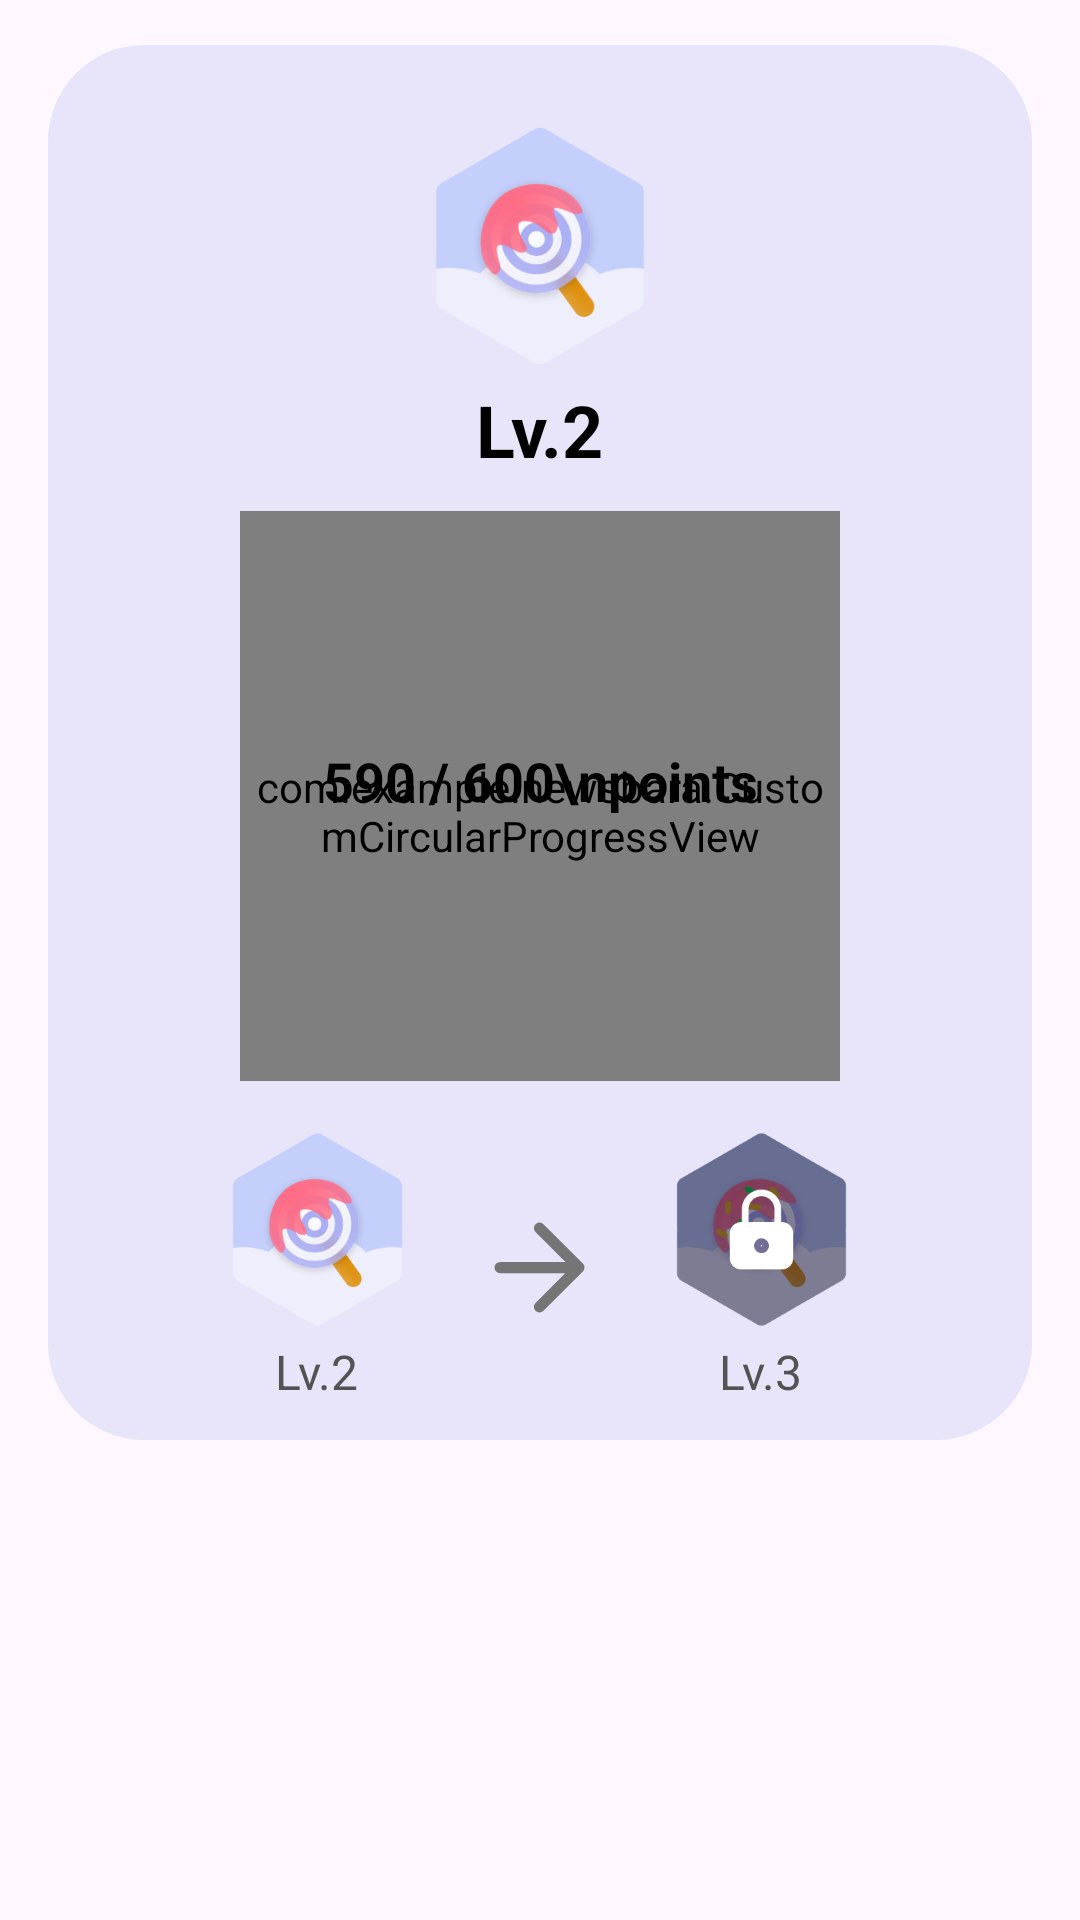

Screen size 1080w x 1920h. Icon name, then its box in pixels as (left=x1, top=y1, right=x2, bottom=y2):
arrow: (left=494, top=1222, right=585, bottom=1313)
